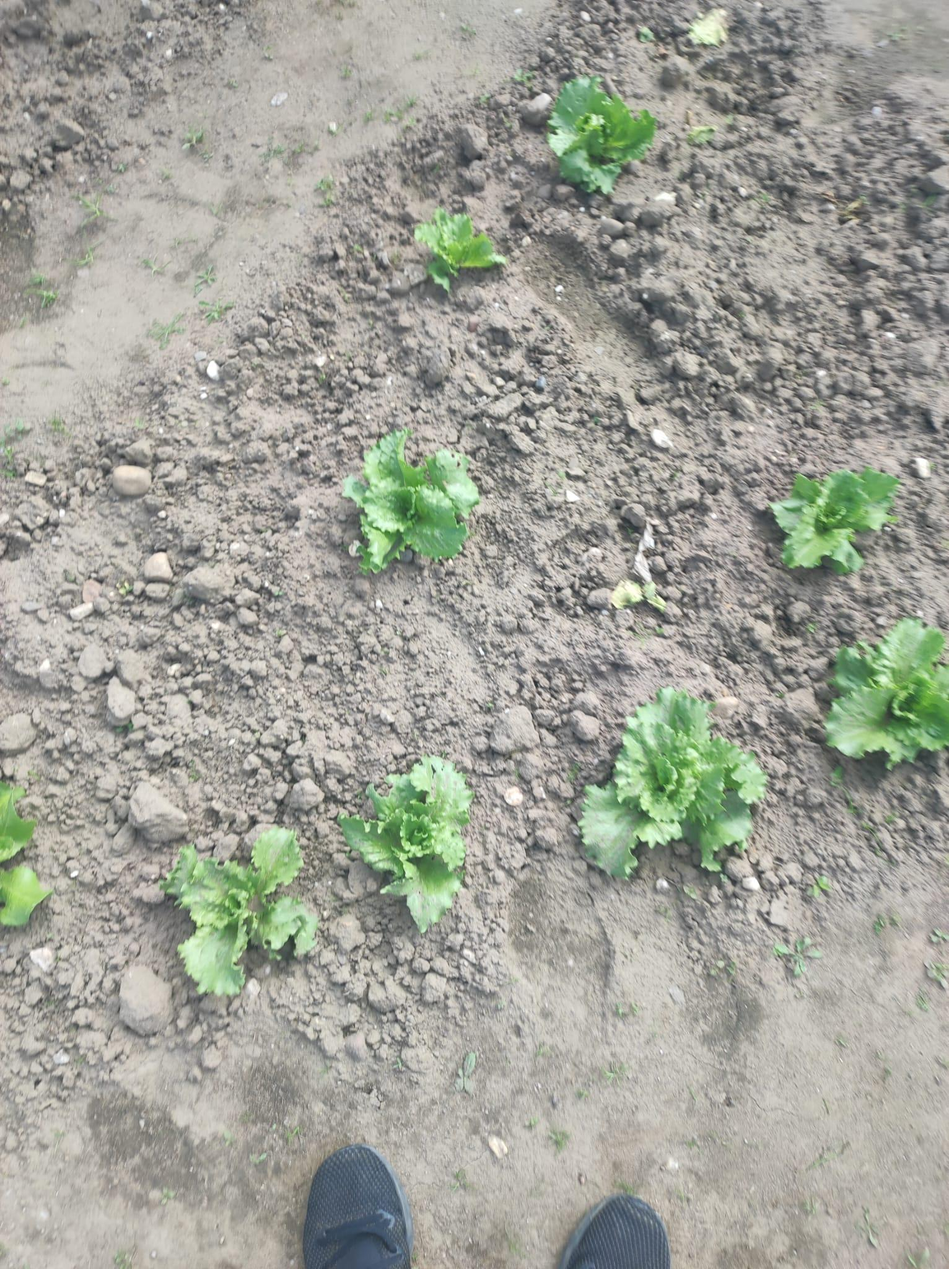healthy: (579, 688, 767, 879), (159, 828, 316, 997), (338, 757, 473, 934), (341, 428, 479, 574), (827, 618, 949, 769), (771, 467, 901, 573), (548, 75, 657, 193), (414, 206, 507, 291)
